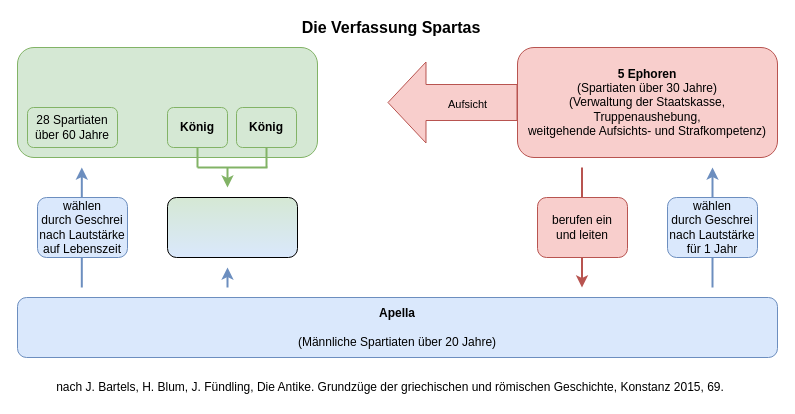
The diagram is 795 pixels wide and 414 high, and some of its shapes have lost their labels. The shapes that lost their labels are listed below. From the top down, each one's box as (x1, y1, x2, y2) in pixels, then its label:
(16, 46, 318, 158): Gerusia (u.a. Richterfunktionen)
(166, 196, 298, 258): Gesetze, Kriegserklärungen, Friedensbeschlüsse etc.
